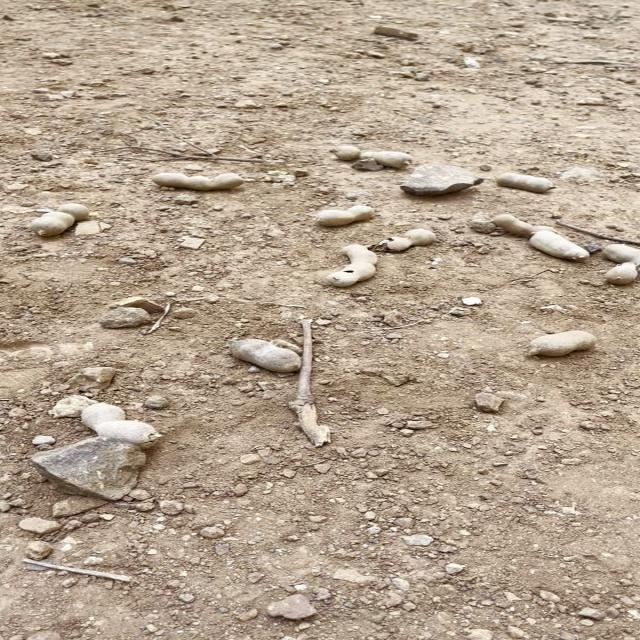tamarind: (63, 399, 174, 447), (212, 335, 302, 371), (24, 200, 92, 236), (532, 329, 594, 365), (526, 231, 591, 263), (337, 243, 379, 289), (145, 168, 246, 187), (324, 145, 400, 169), (299, 208, 377, 225), (492, 171, 556, 191), (607, 261, 637, 287), (602, 243, 639, 259)
